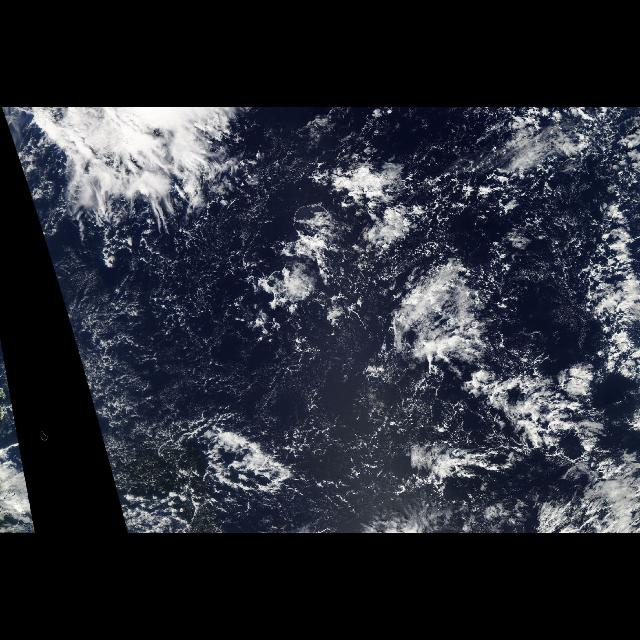Fish: (368, 170, 638, 528)
Gravel: (98, 369, 532, 533), (70, 220, 278, 362)
